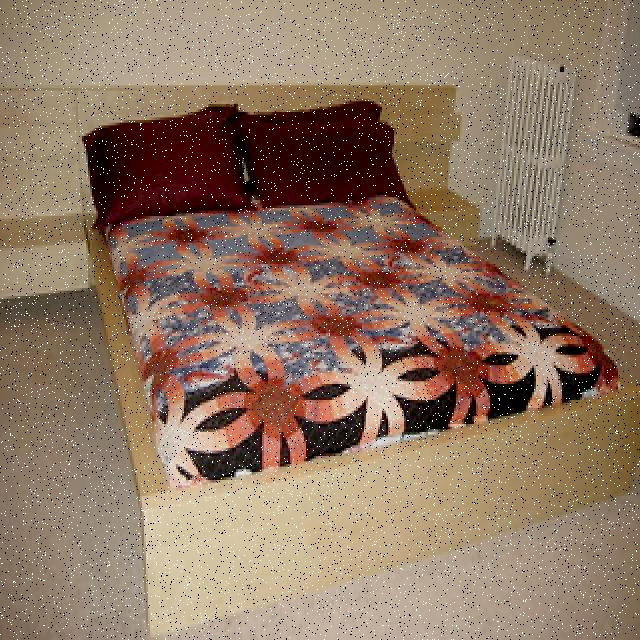bed: (78, 94, 620, 496)
